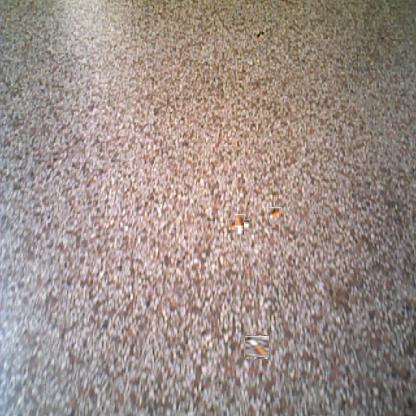dirty: (246, 336, 269, 358), (232, 217, 247, 233), (269, 207, 281, 222), (255, 29, 265, 41)
